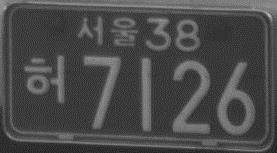1: (137, 56, 158, 134)
2: (171, 59, 212, 137)
3: (143, 15, 172, 51)
6: (216, 58, 260, 136)
7: (81, 54, 123, 132)
8: (174, 18, 202, 54)
서울_O: (77, 14, 140, 50)
허: (22, 50, 68, 106)
